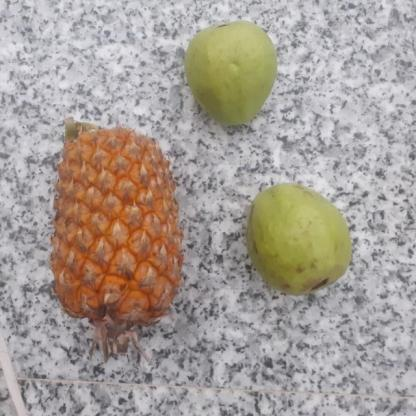guava: (240, 184, 348, 291), (181, 21, 278, 122)
pineapple: (50, 116, 181, 331)
